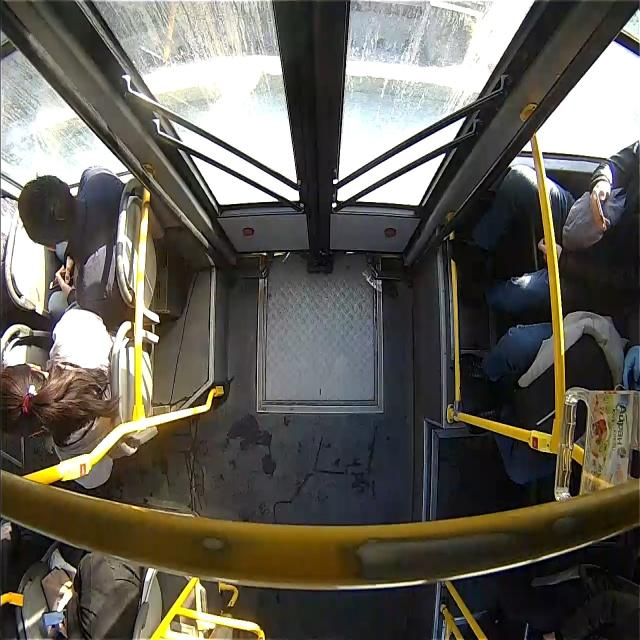bus-door: (2, 0, 638, 269)
